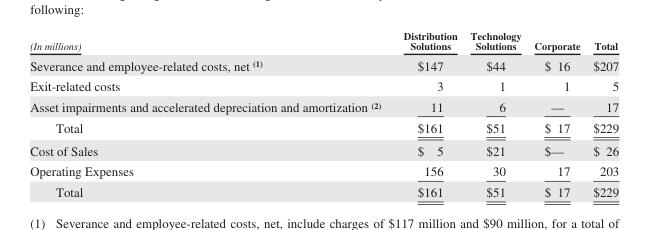table: (29, 28, 618, 198)
table column: (29, 28, 391, 198), (391, 28, 463, 198), (463, 28, 527, 198), (527, 28, 585, 198), (585, 28, 618, 198)
table column header: (29, 28, 618, 54)
table row: (29, 28, 618, 54), (29, 116, 618, 138), (29, 138, 618, 160), (29, 54, 618, 75), (29, 75, 618, 96), (29, 160, 618, 181), (29, 96, 618, 116), (29, 181, 618, 198)
